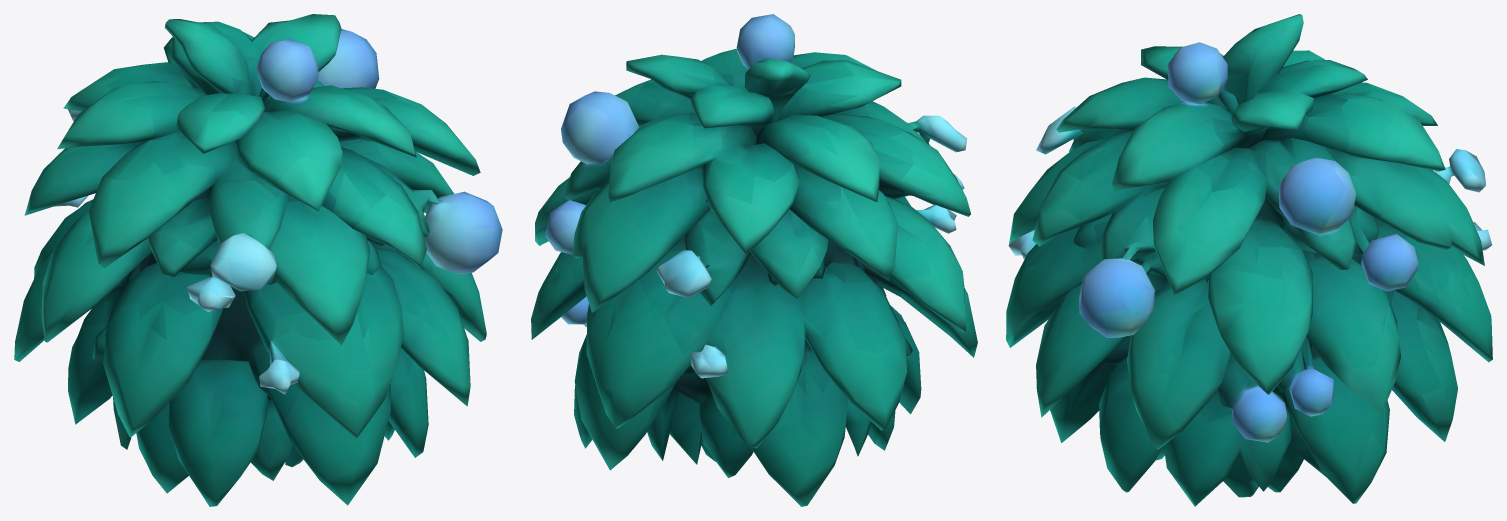
Rendered from bush_berry_teal.glb.
The picture shows the model from 3 angles, left to right: view 1: azimuth 30°, elevation 25°; view 2: azimuth 150°, elevation 25°; view 3: azimuth 270°, elevation 25°; orthographic projection. The views are drawn at different scales.
Parts seen in each view (by area): view 1: tripo_node_92e0043e-1c51-4602-bffd-50bc3decaf0d; view 2: tripo_node_92e0043e-1c51-4602-bffd-50bc3decaf0d; view 3: tripo_node_92e0043e-1c51-4602-bffd-50bc3decaf0d.
Part boxes in pixels (box(x1,y1,x2,y2)): tripo_node_92e0043e-1c51-4602-bffd-50bc3decaf0d: box(14, 14, 502, 506); tripo_node_92e0043e-1c51-4602-bffd-50bc3decaf0d: box(531, 14, 977, 506); tripo_node_92e0043e-1c51-4602-bffd-50bc3decaf0d: box(1006, 14, 1492, 506).
Bounding box in the file's own units: 1 × 0.9999 × 1.
Materials: 1 (1 with a texture image).
